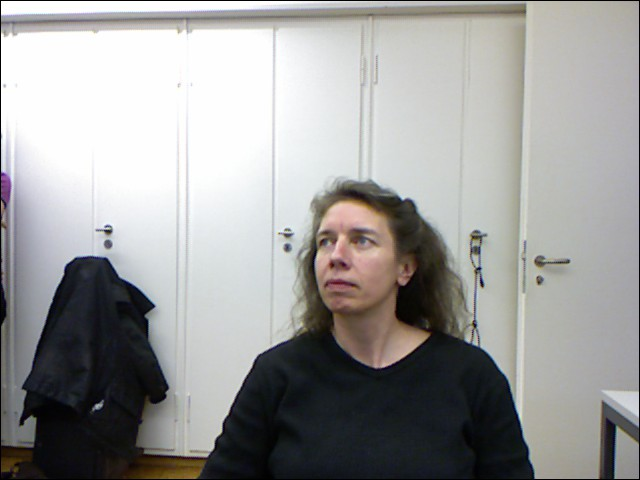deflection: (248, 183, 498, 424)
